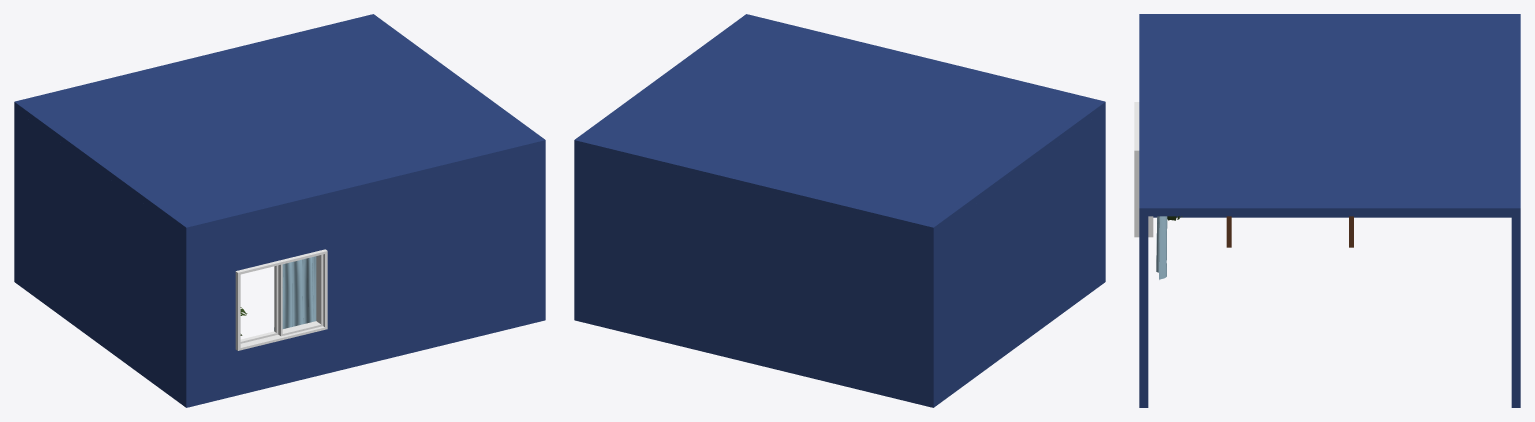
The model's file is scene_simplified.glb.
3 views of the same model, side by side, from view 1: azimuth 30°, elevation 25°; view 2: azimuth 150°, elevation 25°; view 3: azimuth 270°, elevation 25° (orthographic). The views are drawn at different scales.
Parts seen in each view (by area): view 1: Plane, Wall, Wall.001, Curtain, WindowFrame.001, WindowPane.001, Wall.002, WindowPane; view 2: Plane, Wall.002, Wall.001, Wall; view 3: Plane, Wall, Wall.002, WindowFrame.001, Curtain, Wall.001, Legs.
Boxes of the visible parts, left/top/right/bottom form: Plane: left=14, top=14, right=545, bottom=234; Wall: left=182, top=147, right=545, bottom=407; Wall.001: left=18, top=112, right=182, bottom=404; Curtain: left=274, top=256, right=316, bottom=330; WindowFrame.001: left=235, top=249, right=327, bottom=350; WindowPane.001: left=278, top=254, right=323, bottom=336; Wall.002: left=14, top=109, right=18, bottom=284; WindowPane: left=240, top=265, right=278, bottom=343; Plane: left=574, top=14, right=1105, bottom=234; Wall.002: left=574, top=147, right=937, bottom=407; Wall.001: left=937, top=112, right=1101, bottom=404; Wall: left=1101, top=109, right=1105, bottom=284; Plane: left=1139, top=14, right=1520, bottom=216; Wall: left=1139, top=216, right=1148, bottom=407; Wall.002: left=1511, top=216, right=1520, bottom=407; WindowFrame.001: left=1134, top=102, right=1153, bottom=237; Curtain: left=1156, top=216, right=1167, bottom=279; Wall.001: left=1153, top=216, right=1511, bottom=217; Legs: left=1226, top=216, right=1353, bottom=247.
Size of the model in its own units: 10 by 4.79 by 8.41.
